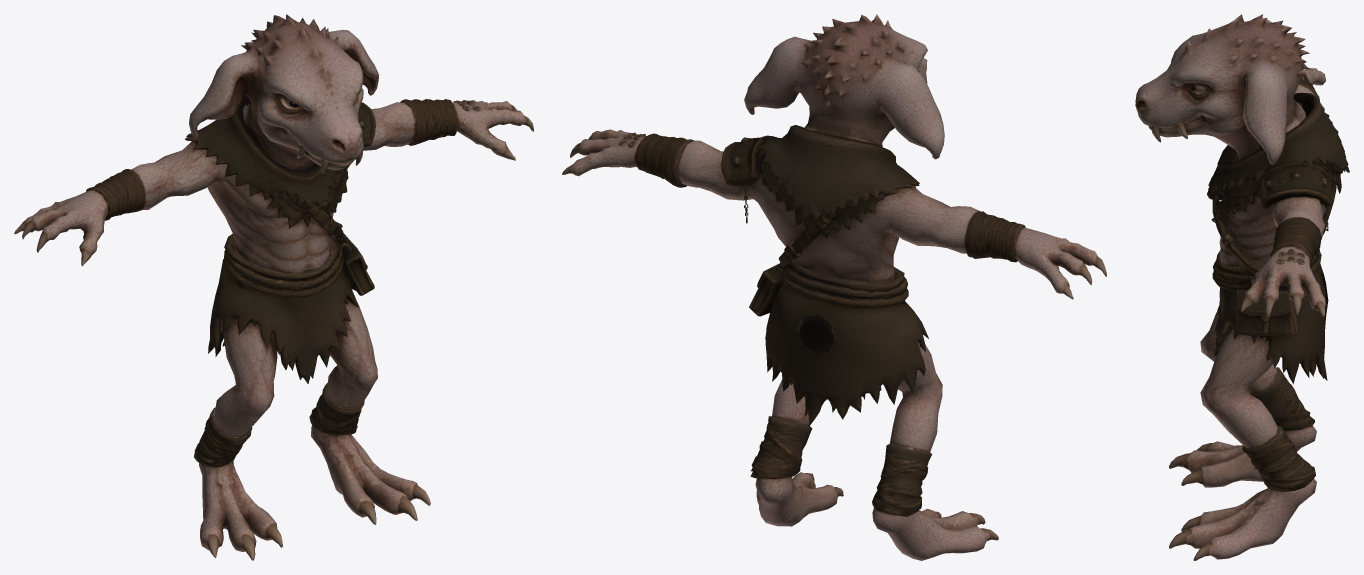
Rendered from Kobold.fbx.
3 renders of one model, left to right at view 1: azimuth 30°, elevation 25°; view 2: azimuth 150°, elevation 25°; view 3: azimuth 270°, elevation 25°, orthographic. The views are drawn at different scales.
Visible parts, largest first — view 1: Kobold; view 2: Kobold; view 3: Kobold.
Boxes of the visible parts, x1,y1,x2,y2 form: Kobold: (14, 14, 533, 560); Kobold: (562, 14, 1106, 560); Kobold: (1135, 14, 1349, 560).
Size of the model in its own units: 170 by 161 by 63.42.
Materials: 1 (1 with a texture image).
